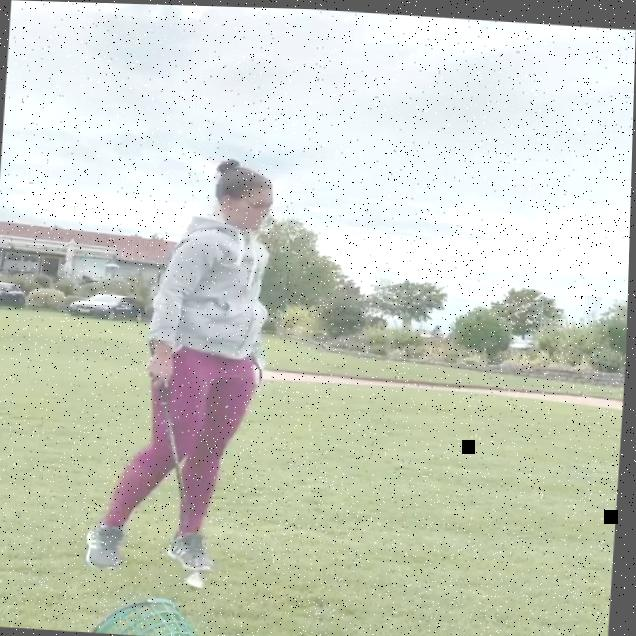ClubHead: (190, 570, 212, 586)
